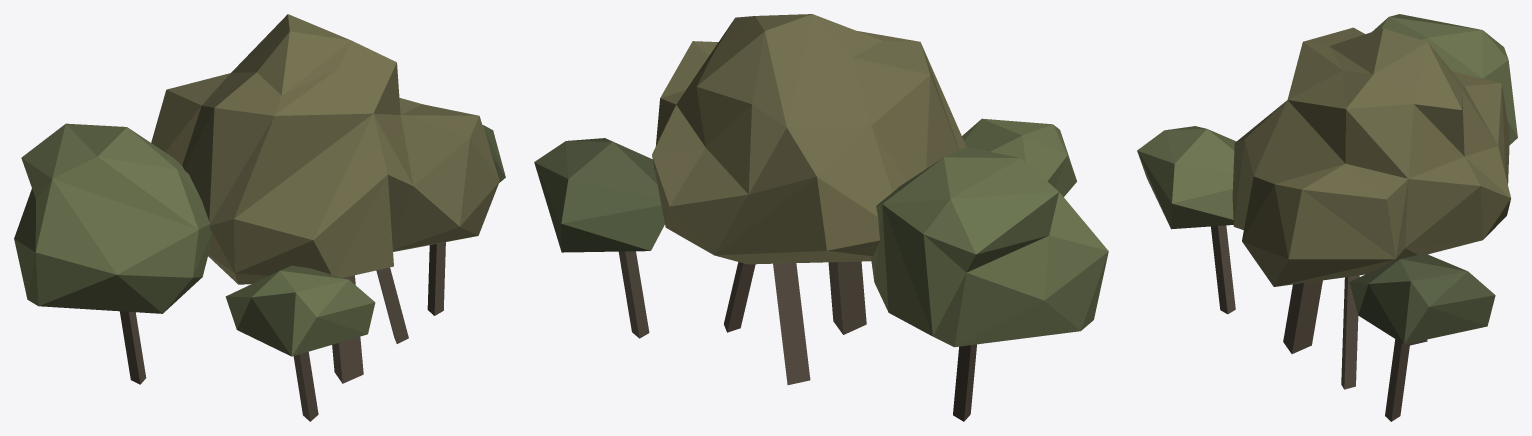
Rendered from SM_Env_Bush_Group_01.fbx.
3 renders of one model, left to right at view 1: azimuth 30°, elevation 25°; view 2: azimuth 150°, elevation 25°; view 3: azimuth 270°, elevation 25°, orthographic. The views are drawn at different scales.
Parts seen in each view (by area): view 1: SM_Env_Bush_Group_01; view 2: SM_Env_Bush_Group_01; view 3: SM_Env_Bush_Group_01.
Part boxes in pixels (x1,y1,x2,y2): SM_Env_Bush_Group_01: [14, 14, 505, 421]; SM_Env_Bush_Group_01: [534, 14, 1108, 421]; SM_Env_Bush_Group_01: [1137, 14, 1517, 421].
Bounding box in the file's own units: 296 × 187 × 203.
